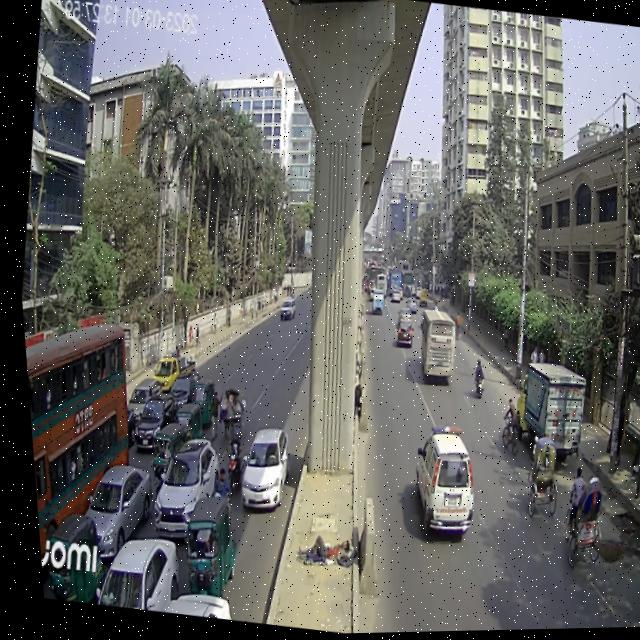cng: (168, 491, 240, 612), (139, 421, 192, 491), (158, 395, 202, 459), (182, 376, 215, 423)
rikshaw: (547, 468, 602, 571), (512, 438, 559, 526)
